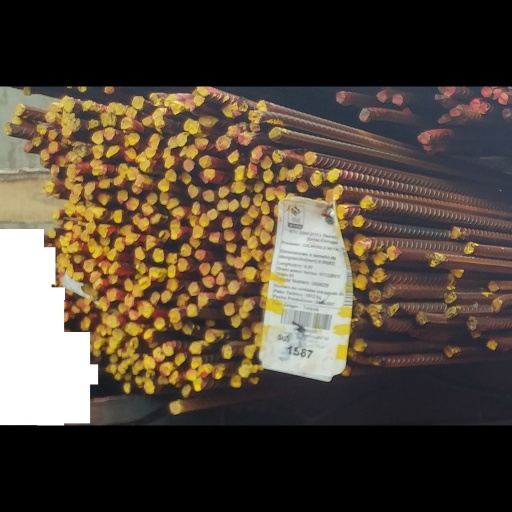dipstick: (259, 194, 274, 219), (184, 47, 200, 70), (247, 32, 263, 55), (354, 283, 368, 308), (215, 75, 231, 96), (111, 24, 126, 46), (170, 178, 185, 199), (466, 345, 479, 369), (125, 166, 139, 188), (151, 394, 165, 416), (234, 120, 248, 142), (66, 117, 81, 137), (169, 22, 184, 42), (309, 126, 322, 149), (335, 177, 348, 200), (360, 164, 374, 185), (215, 301, 229, 322), (417, 66, 431, 87), (246, 114, 258, 138), (352, 380, 366, 400), (368, 306, 382, 326), (227, 95, 240, 116), (210, 264, 223, 285), (148, 72, 161, 93), (183, 107, 195, 129), (186, 86, 198, 108), (387, 240, 399, 262), (227, 292, 240, 312), (191, 208, 204, 228), (169, 475, 182, 495), (247, 178, 260, 198), (268, 63, 283, 80), (117, 155, 128, 178), (260, 215, 271, 238), (491, 318, 502, 341), (125, 70, 139, 88), (153, 243, 165, 264), (178, 257, 190, 278), (327, 123, 339, 144), (260, 103, 272, 124), (358, 33, 370, 54), (188, 295, 201, 314), (202, 283, 215, 302), (238, 69, 251, 88), (134, 241, 146, 261), (168, 337, 180, 357), (198, 265, 210, 285), (227, 170, 239, 190), (272, 94, 284, 114), (354, 234, 366, 254), (197, 311, 209, 331), (274, 149, 286, 169), (374, 274, 386, 294), (121, 46, 134, 64), (98, 160, 111, 178), (179, 129, 192, 147), (202, 156, 215, 174), (195, 77, 208, 95), (161, 388, 174, 406), (240, 192, 253, 210), (222, 391, 233, 412), (241, 211, 252, 232), (91, 67, 103, 86), (103, 61, 115, 80), (92, 88, 104, 107), (132, 14, 144, 33), (186, 329, 198, 348), (223, 326, 235, 345), (180, 235, 192, 254), (141, 175, 153, 194), (187, 148, 199, 167), (167, 74, 179, 93), (204, 366, 216, 385), (211, 422, 223, 441), (238, 420, 250, 439), (199, 103, 212, 120), (444, 311, 457, 328), (64, 19, 75, 39), (113, 185, 124, 205), (150, 308, 160, 330), (160, 306, 171, 326), (154, 347, 165, 367), (160, 158, 171, 178), (332, 149, 343, 169), (244, 390, 255, 410), (83, 262, 95, 280), (190, 386, 202, 404), (221, 195, 233, 213), (224, 215, 236, 233), (251, 245, 263, 263), (352, 194, 364, 212), (115, 228, 125, 249), (260, 172, 270, 193), (359, 262, 369, 283), (259, 274, 269, 295), (47, 64, 58, 83), (138, 197, 149, 216), (218, 150, 229, 169), (243, 320, 254, 339), (230, 345, 241, 364), (240, 362, 251, 381), (297, 140, 308, 159), (304, 98, 315, 117), (208, 218, 220, 235), (166, 290, 178, 307), (244, 272, 256, 289), (416, 341, 428, 358), (229, 436, 241, 453), (71, 48, 81, 68), (252, 90, 262, 110), (265, 152, 275, 172), (278, 122, 288, 142), (126, 30, 137, 48), (158, 139, 169, 157), (241, 163, 250, 185), (131, 145, 142, 163), (450, 211, 461, 229), (124, 315, 135, 333), (141, 328, 152, 346), (61, 60, 73, 76), (165, 126, 177, 142), (486, 293, 498, 309), (48, 82, 58, 101), (167, 270, 177, 289), (15, 26, 26, 43), (55, 104, 66, 121), (118, 115, 129, 132), (204, 124, 215, 141), (193, 12, 204, 29), (71, 148, 82, 165), (263, 125, 274, 142), (446, 333, 457, 350), (469, 18, 480, 35), (11, 44, 24, 58), (40, 93, 50, 111), (87, 48, 99, 63), (86, 204, 96, 222), (106, 305, 116, 323), (194, 246, 206, 261), (247, 225, 257, 243), (499, 9, 509, 27), (217, 170, 228, 186), (141, 43, 152, 59), (159, 420, 170, 436), (5, 54, 14, 73), (190, 408, 200, 425), (93, 289, 103, 306), (256, 20, 266, 37), (336, 7, 346, 24), (99, 139, 111, 153), (294, 116, 302, 137), (59, 224, 70, 239), (143, 450, 154, 465), (487, 382, 498, 397), (50, 117, 59, 135), (44, 143, 54, 159), (46, 213, 56, 229), (144, 410, 154, 426), (30, 76, 41, 90), (81, 216, 90, 233), (207, 185, 217, 200), (226, 235, 236, 250), (465, 237, 475, 252), (481, 1, 491, 16), (393, 12, 403, 27), (45, 38, 55, 52), (36, 57, 46, 71), (92, 120, 102, 134), (100, 225, 110, 239), (73, 279, 83, 293), (444, 393, 454, 407), (65, 174, 74, 189), (24, 83, 32, 99), (50, 187, 59, 200), (49, 24, 57, 38), (64, 201, 72, 215), (23, 0, 31, 13)
